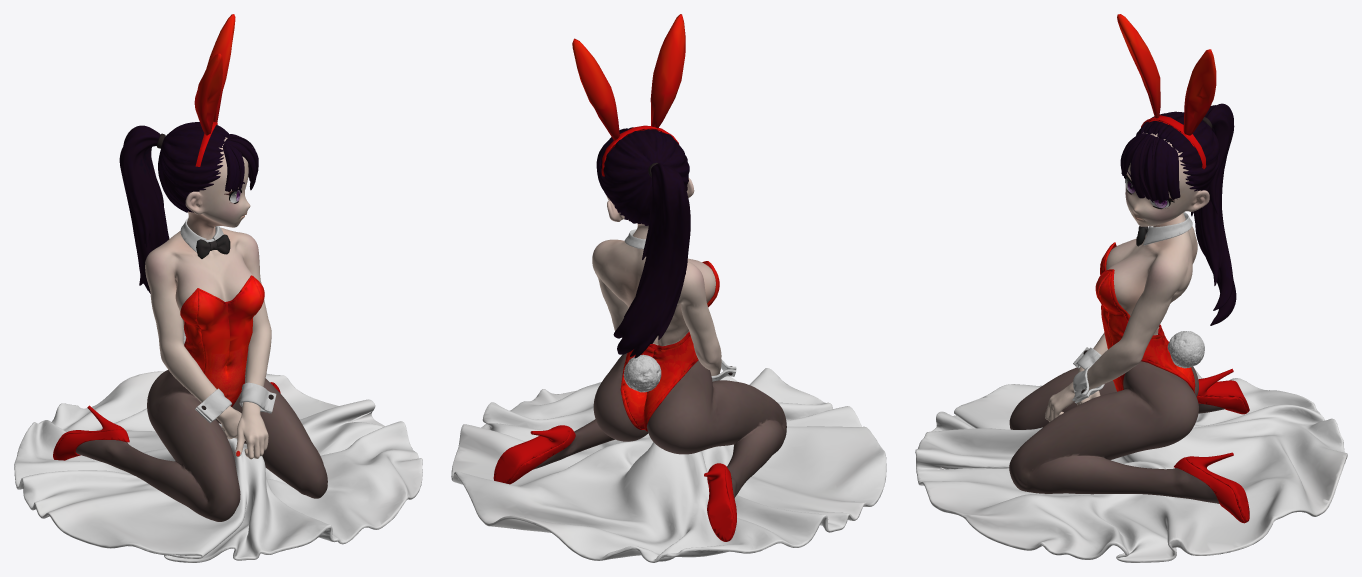
File: bunny-89a00300.glb
3 views of the same model, side by side, from view 1: azimuth 30°, elevation 25°; view 2: azimuth 150°, elevation 25°; view 3: azimuth 270°, elevation 25° (orthographic). The views are drawn at different scales.
Visible parts, largest first — view 1: Sheet.001, P_BunnyEar1, P_Shoe1; view 2: Sheet.001, P_BunnyEar1, P_Shoe1; view 3: Sheet.001, P_BunnyEar1, P_Shoe1.
Boxes of the visible parts, x1,y1,x2,y2 form: Sheet.001: (14,122,422,562); P_BunnyEar1: (180,14,264,406); P_Shoe1: (53,382,280,460); Sheet.001: (451,127,886,562); P_BunnyEar1: (572,14,719,431); P_Shoe1: (493,425,736,541); Sheet.001: (915,103,1347,562); P_BunnyEar1: (1095,14,1216,393); P_Shoe1: (1174,368,1249,523).
Bounding box in the file's own units: 1.14 × 1.34 × 1.14.
Materials: 4 (1 with a texture image).
